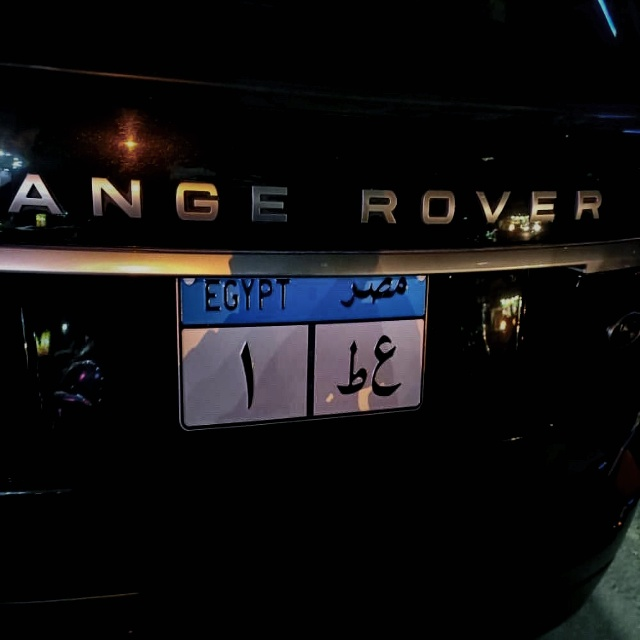License Plate: (176, 272, 428, 433)
